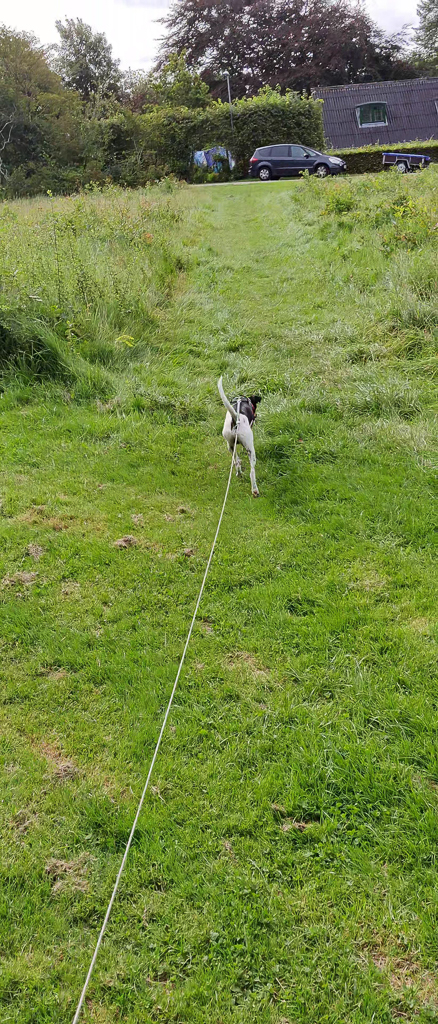Dog: (201, 369, 288, 510)
